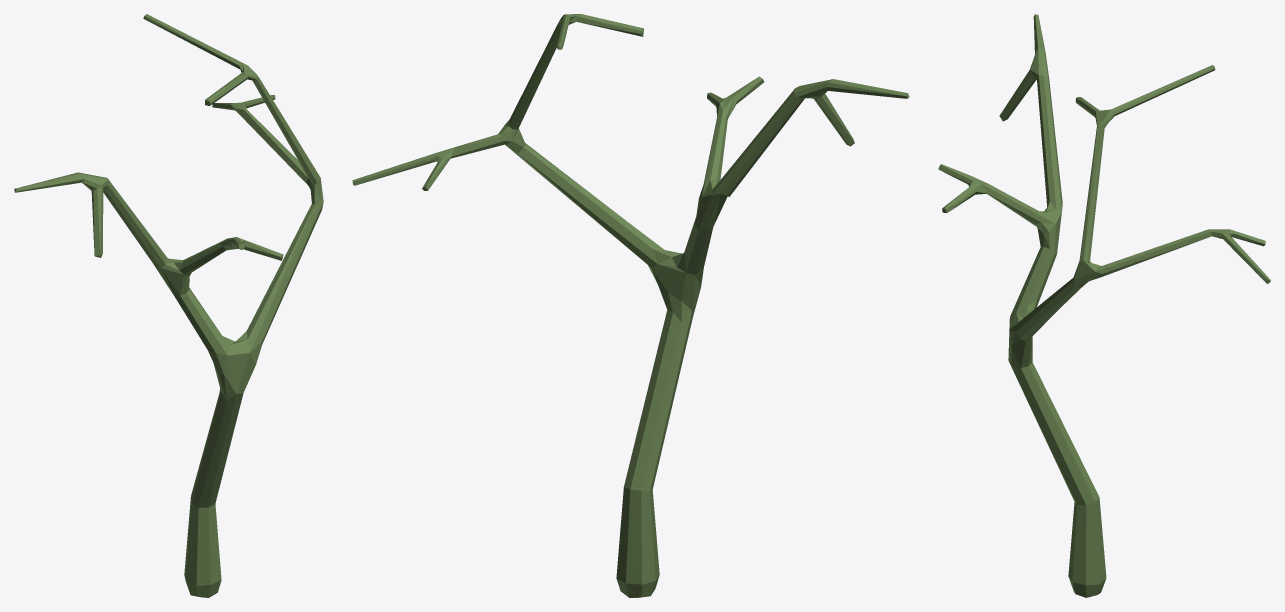
File: plant07.fbx
3 views of the same model, side by side, from view 1: azimuth 30°, elevation 25°; view 2: azimuth 150°, elevation 25°; view 3: azimuth 270°, elevation 25° (orthographic). The views are drawn at different scales.
Visible parts, largest first — view 1: Plane.054; view 2: Plane.054; view 3: Plane.054.
Part boxes in pixels (box(x1,y1,x2,y2)): Plane.054: box(14, 14, 323, 597); Plane.054: box(352, 14, 909, 597); Plane.054: box(938, 14, 1270, 597).
Size of the model in its own units: 0.3827 by 0.5198 by 0.2928.
